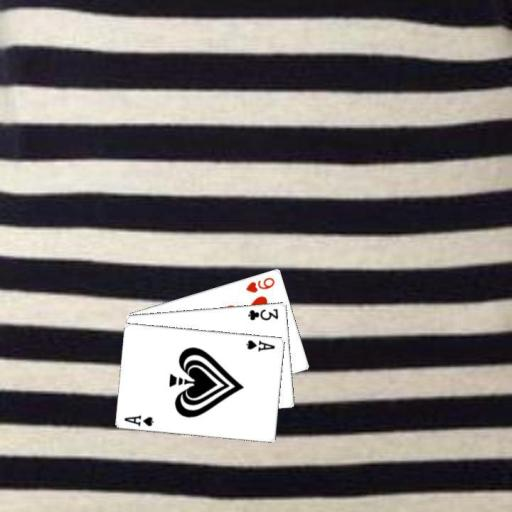3C: (246, 305, 280, 321)
9H: (243, 274, 277, 294)
AS: (243, 336, 277, 353), (121, 412, 156, 427)
